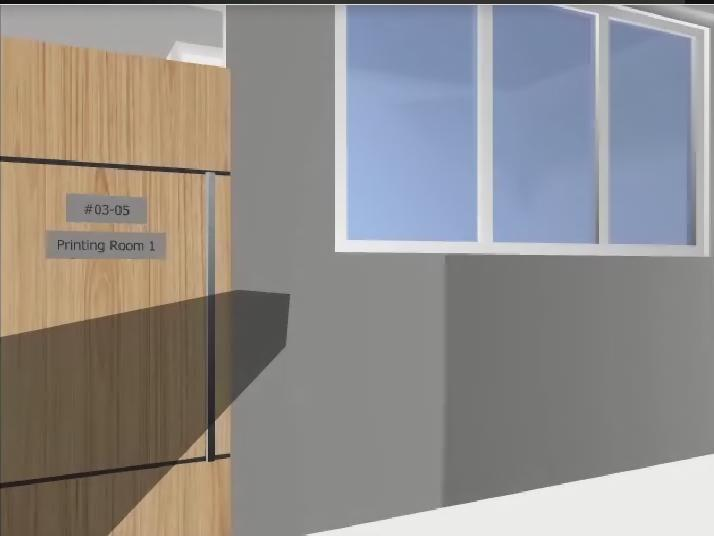door: (1, 36, 230, 536)
